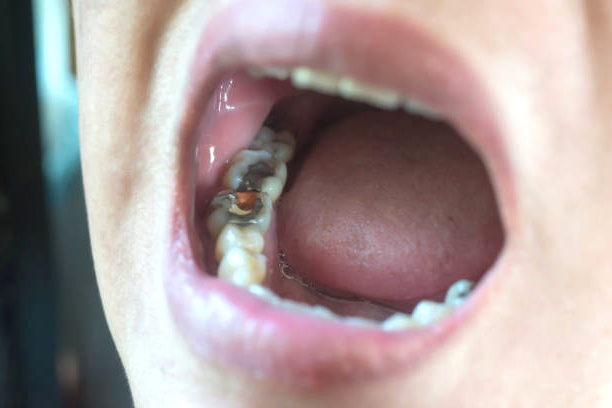Caries: (218, 154, 283, 228)
